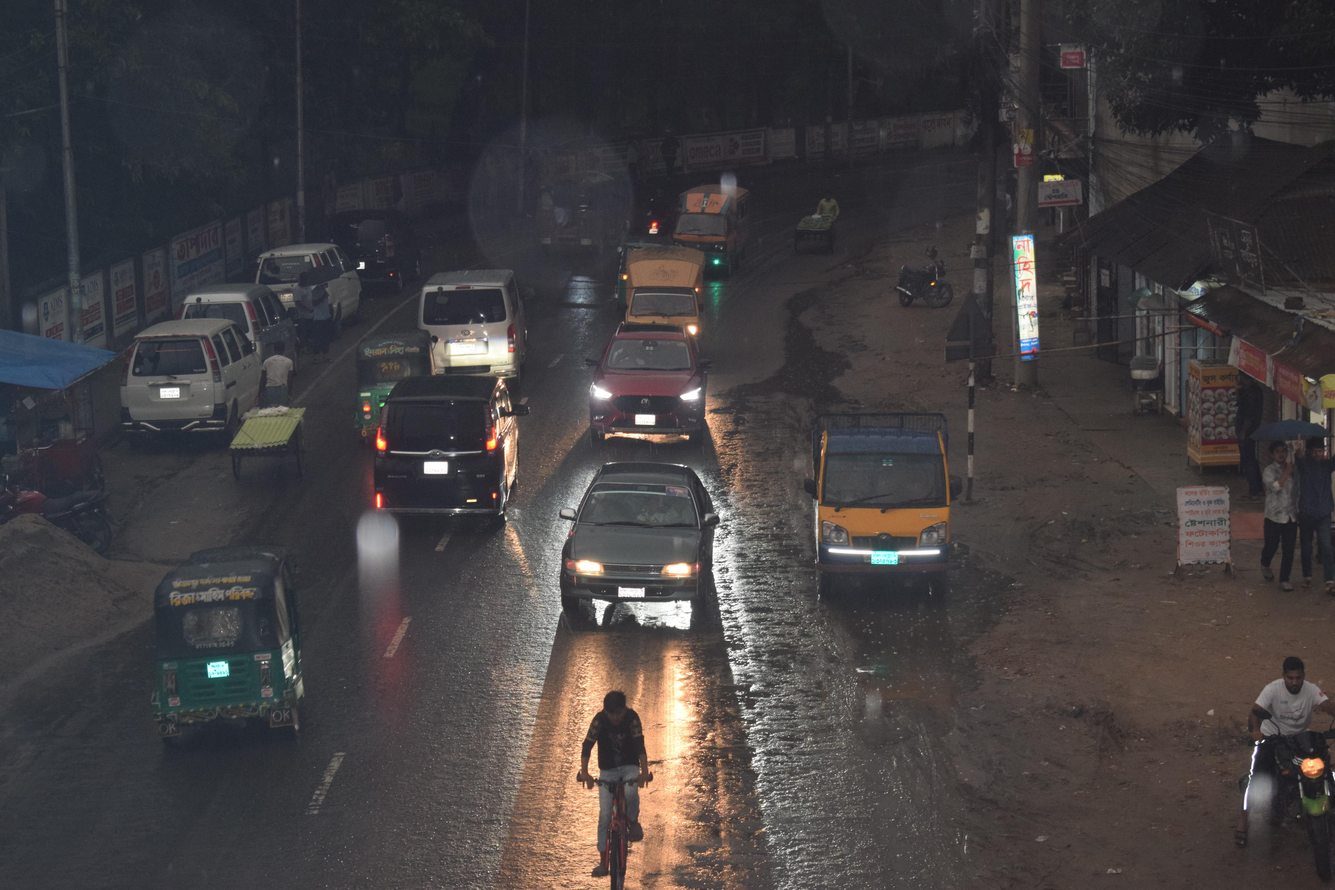Bike: (1186, 630, 1335, 890), (875, 235, 987, 331)
Car: (517, 434, 740, 673), (352, 355, 558, 548), (562, 307, 745, 464), (103, 309, 273, 463), (395, 249, 548, 406), (595, 222, 744, 373), (150, 264, 309, 395), (647, 156, 779, 293), (239, 217, 376, 336), (317, 190, 452, 307)
Truck: (757, 381, 1003, 627)
